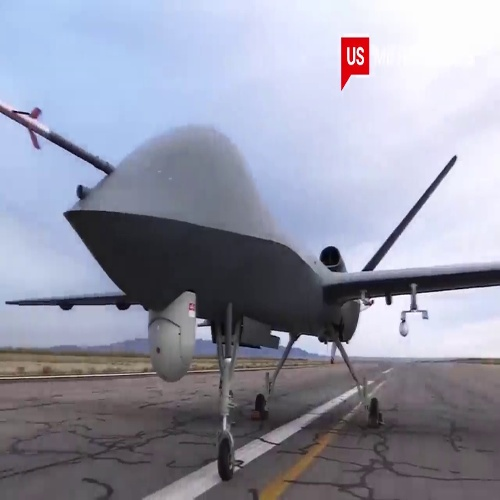uav: (8, 122, 500, 474)
